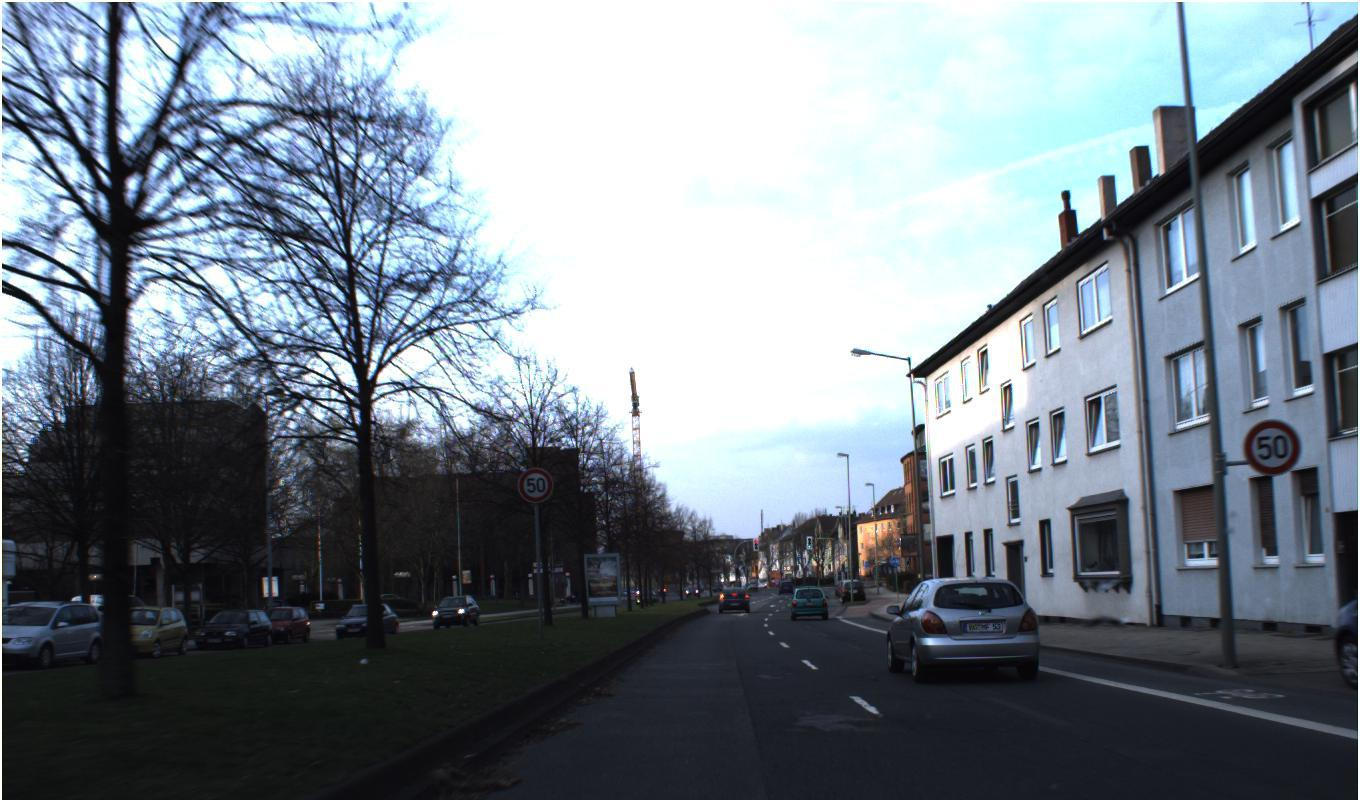speed limit 50 prohibitory: (1243, 418, 1301, 475), (517, 466, 554, 504)
